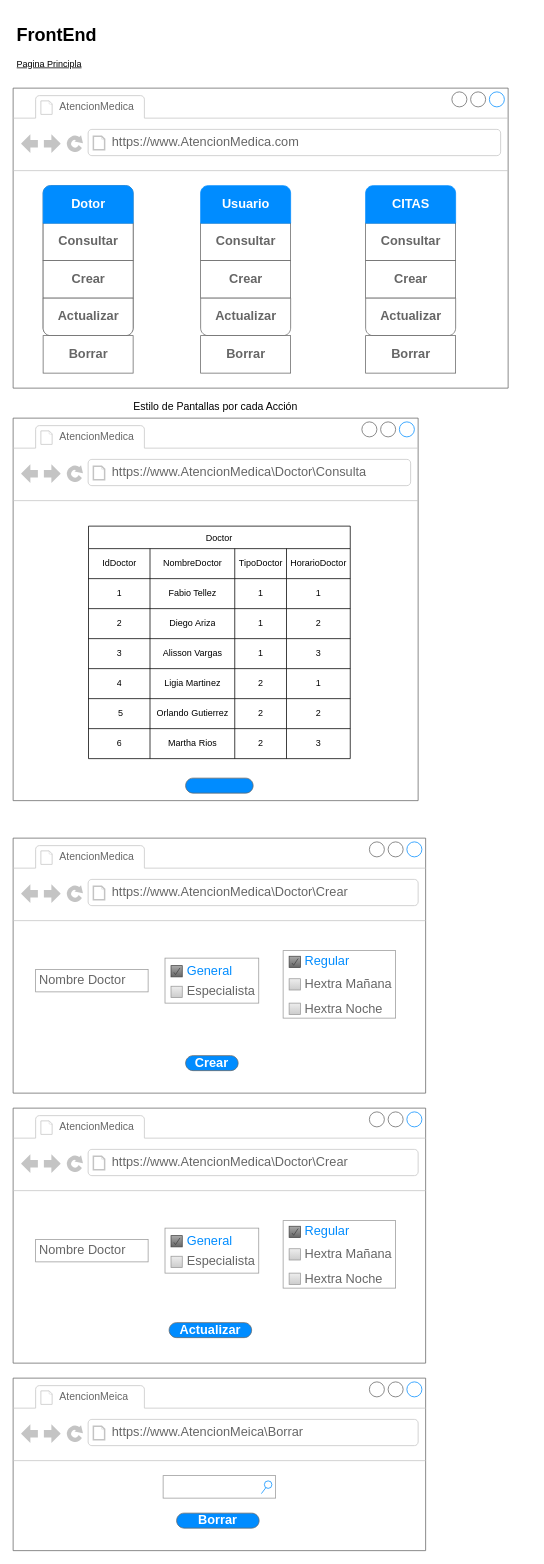
This 544x1564 diagram has some shape labels left out. The shapes that lost their labels are listed below. From the top down, each one's centre as x and y in pixels, then its label:
At pixel 219 785: "Regresar".
At pixel 219 1486: "CóigoDoctor".
